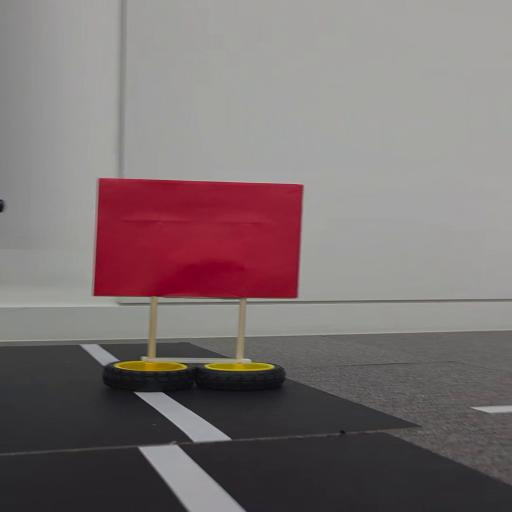Sign_A: (80, 177, 326, 402)
